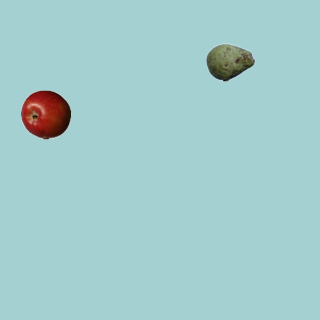Apple Braeburn: (20, 89, 70, 139)
Pear Stone: (205, 37, 255, 87)
